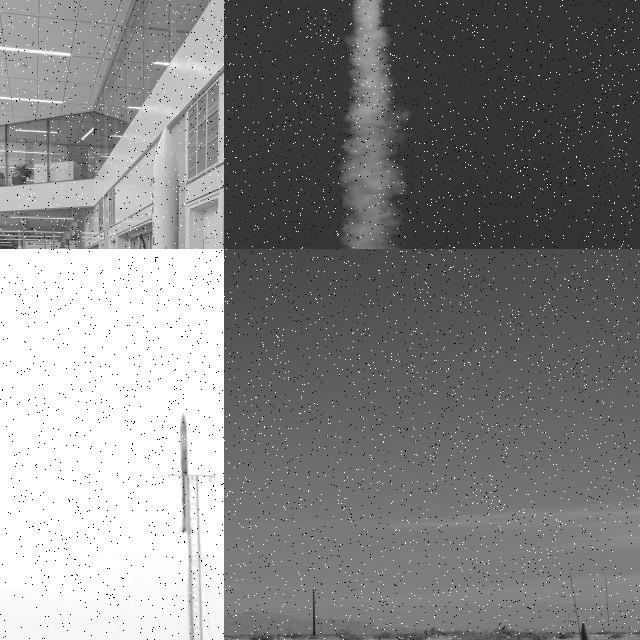Rocket: (152, 125, 179, 249), (179, 413, 195, 533), (580, 620, 602, 640)
